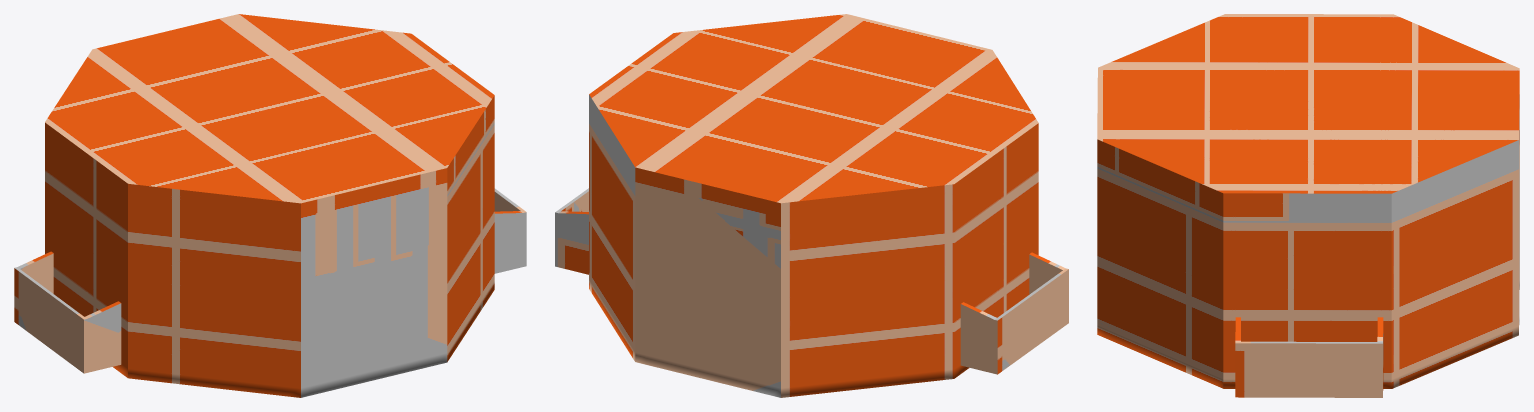
The model's file is 2_balkonlu_kat_camsız.fbx.
The picture shows the model from 3 angles, left to right: view 1: azimuth 30°, elevation 25°; view 2: azimuth 150°, elevation 25°; view 3: azimuth 270°, elevation 25°; orthographic projection.
Parts seen in each view (by area): view 1: Cube.003; view 2: Cube.003; view 3: Cube.003.
Part boxes in pixels (x1,y1,x2,y2): Cube.003: [14, 14, 526, 397]; Cube.003: [555, 14, 1068, 397]; Cube.003: [1097, 14, 1519, 397].
Bounding box in the file's own units: 242 × 102 × 200.
